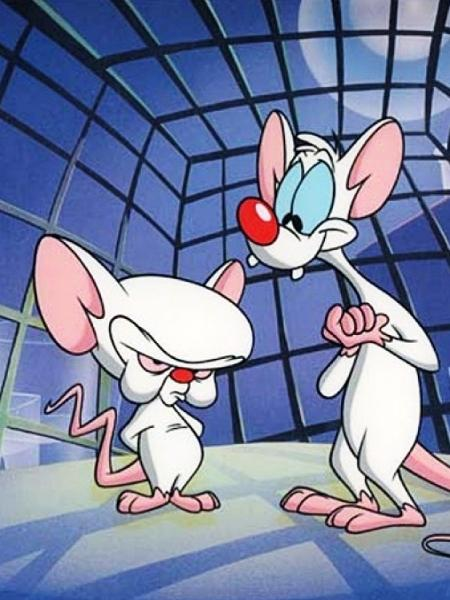cerebro: (18, 198, 256, 552)
pink: (236, 102, 449, 565)
